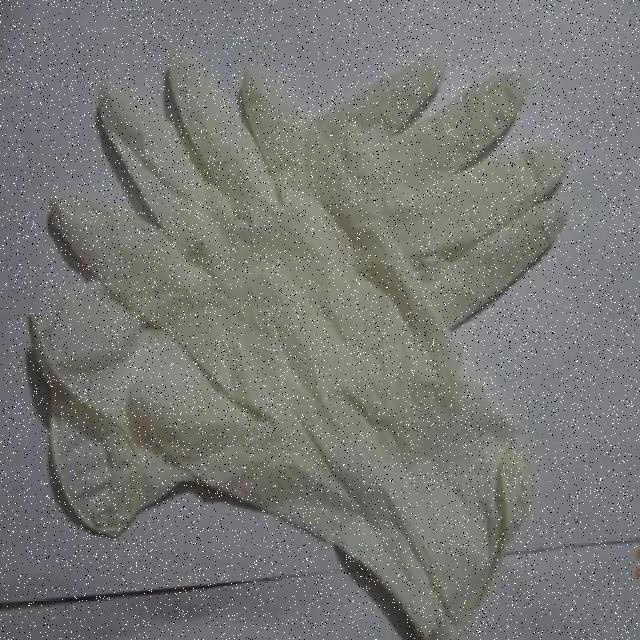Guantes: (82, 72, 543, 604), (316, 28, 566, 294)
